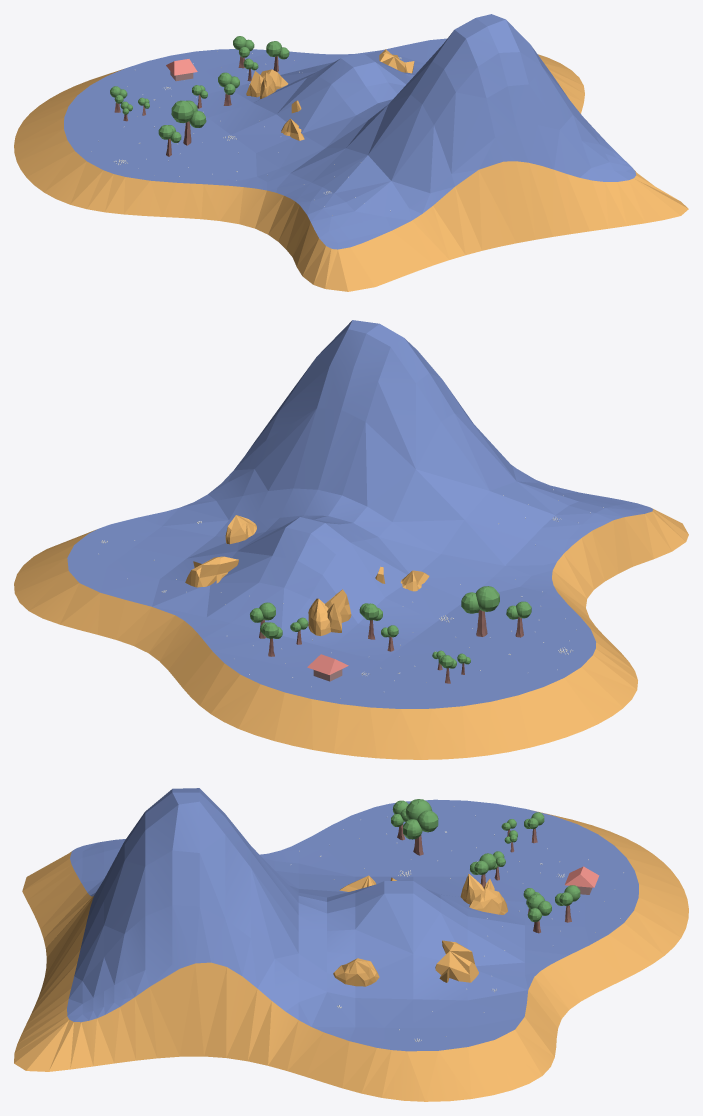
3 renders of one model, top to bottom at view 1: azimuth 30°, elevation 25°; view 2: azimuth 150°, elevation 25°; view 3: azimuth 270°, elevation 25°, orthographic. The views are drawn at different scales.
Visible parts, largest first — view 1: base, Object_1, Object_3; view 2: base, Object_1, Object_3; view 3: base, Object_3, Object_1, Object_2.
Part boxes in pixels (box(x1,y1,x2,y2)): base: box(14, 14, 688, 291); Object_1: box(246, 69, 288, 98); Object_3: box(379, 49, 414, 73); base: box(14, 320, 688, 759); Object_1: box(308, 589, 351, 635); Object_3: box(185, 556, 238, 587); base: box(14, 788, 688, 1101); Object_3: box(435, 940, 478, 982); Object_1: box(460, 874, 507, 914); Object_2: box(333, 958, 379, 986).
Size of the model in its own units: 114 by 35.77 by 110.
